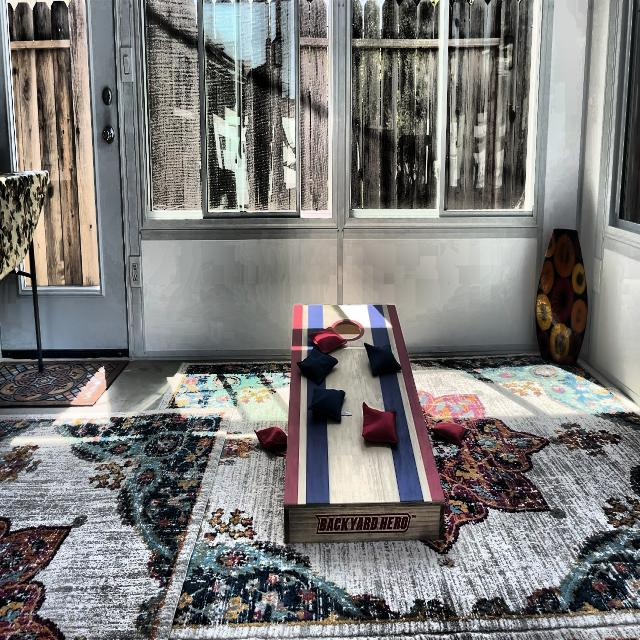blue-bean-bag: (296, 352, 338, 386), (364, 341, 401, 379), (309, 388, 346, 422)
board: (290, 305, 409, 503)
hole: (331, 317, 364, 343)
red-bean-bag: (362, 403, 398, 448), (308, 325, 349, 352), (433, 419, 466, 446), (255, 425, 287, 449)
